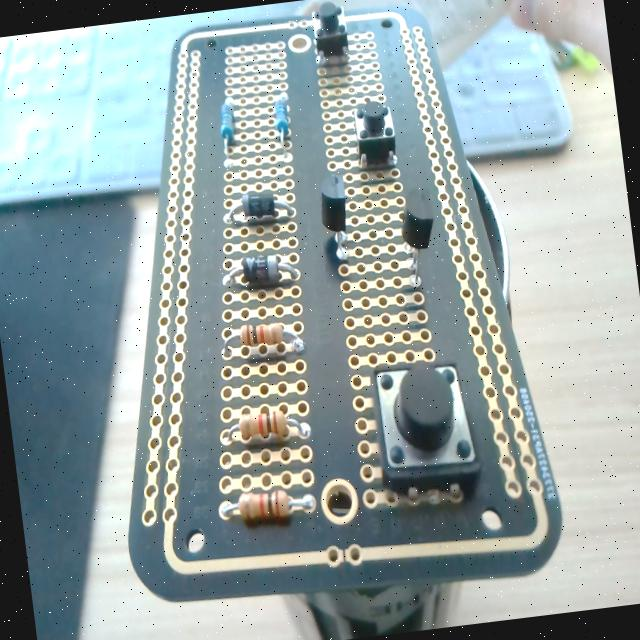diode: (220, 250, 298, 290)
resistor: (214, 404, 316, 452), (222, 320, 306, 364), (222, 486, 314, 526), (226, 185, 296, 214), (215, 96, 240, 158), (271, 90, 293, 145)
switch: (370, 356, 480, 487), (350, 98, 398, 169), (309, 0, 351, 64)
transistor: (394, 196, 441, 290), (315, 174, 353, 261)
